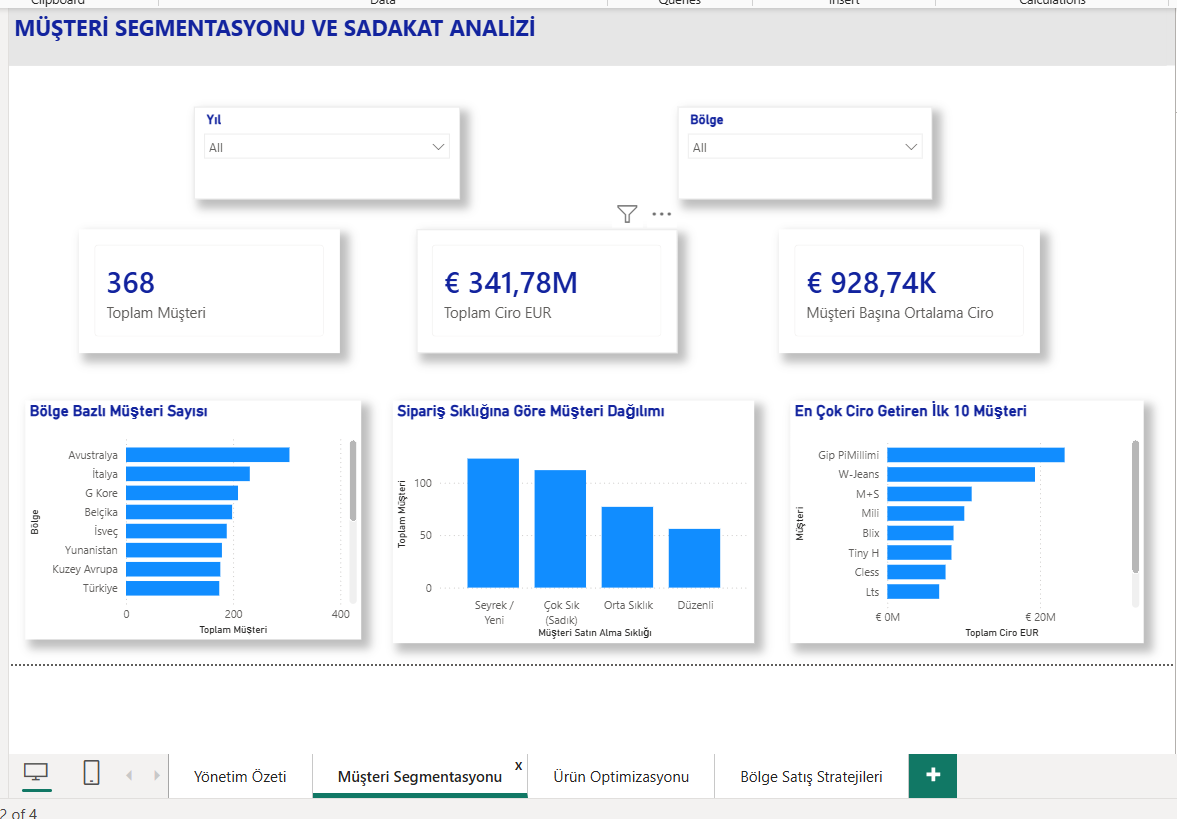

The page's visual inventory and layout, read from the dashboard file:
{"tool":"powerbi","page":{"name":"Müşteri Segmentasyonu","canvas":[1280,720],"ordinal":1},"visuals":[{"type":"shape","box":[0,0,1280.3,63.1],"z":0},{"type":"textbox","box":[0,0,1270.7,63.1],"z":1},{"type":"cardVisual","fields":{"Data":["Satış Verileri.Toplam Müşteri"]},"box":[76.8,242.9,286.8,135.8],"z":2},{"type":"cardVisual","fields":{"Data":["Satış Verileri.Toplam Ciro EUR"]},"box":[447.3,242.9,286.8,135.8],"z":3},{"type":"cardVisual","fields":{"Data":["Satış Verileri.Müşteri Başına Ortalama Ciro"]},"box":[845.3,242.9,286.8,135.8],"z":4},{"type":"clusteredColumnChart","title":"Sipariş Sıklığına Göre Müşteri Dağılımı","fields":{"Category":["Satış Verileri.Müşteri Satın Alma Sıklığı"],"Y":["Satış Verileri.Toplam Müşteri"]},"box":[421.3,430.9,396.6,266.2],"z":6},{"type":"clusteredBarChart","title":"En Çok Ciro Getiren İlk 10 Müşteri","fields":{"Category":["Satış Verileri.Müşteri"],"Y":["Satış Verileri.Toplam Ciro EUR"]},"box":[857.6,430.9,388.3,266.2],"z":7},{"type":"clusteredBarChart","title":"Bölge Bazlı Müşteri Sayısı","fields":{"Category":["Satış Verileri.Bölge"],"Y":["Satış Verileri.Toplam Müşteri"]},"box":[17.8,430.9,369.1,262.1],"z":8},{"type":"slicer","fields":{"Values":["Satış Verileri.Faturalama Tarihi.Variation.Date Hierarchy.Year"]},"box":[203.1,108.4,291.7,101.3],"z":9},{"type":"slicer","fields":{"Values":["Satış Verileri.Bölge"]},"box":[734.1,108.4,279.6,101.3],"z":10}]}

Visuals, with their boxes on the page's 1280x720 design canvas (x1, y1, x2, y2). These are canvas units, not pixel positions in the 1177x819 screenshot, which may show the page scaled, cropped or inside an application window:
shape: bbox=(0, 0, 1280, 63)
textbox: bbox=(0, 0, 1271, 63)
cardVisual - Satış Verileri.Toplam Müşteri: bbox=(77, 243, 364, 379)
cardVisual - Satış Verileri.Toplam Ciro EUR: bbox=(447, 243, 734, 379)
cardVisual - Satış Verileri.Müşteri Başına Ortalama Ciro: bbox=(845, 243, 1132, 379)
"Sipariş Sıklığına Göre Müşteri Dağılımı" clusteredColumnChart: bbox=(421, 431, 818, 697)
"En Çok Ciro Getiren İlk 10 Müşteri" clusteredBarChart: bbox=(858, 431, 1246, 697)
"Bölge Bazlı Müşteri Sayısı" clusteredBarChart: bbox=(18, 431, 387, 693)
slicer - Satış Verileri.Faturalama Tarihi.Variation.Date Hierarchy.Year: bbox=(203, 108, 495, 210)
slicer - Satış Verileri.Bölge: bbox=(734, 108, 1014, 210)
